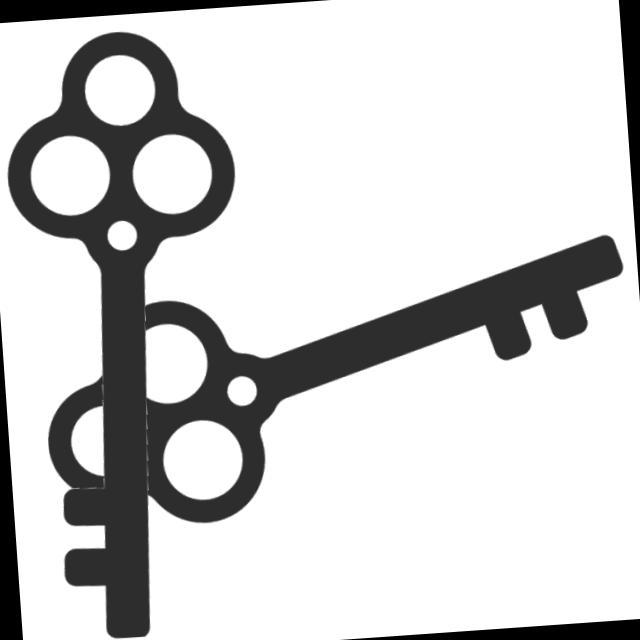key: (29, 219, 640, 550), (1, 17, 277, 640)
